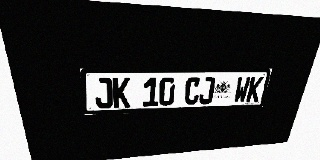0: (158, 77, 175, 106)
1: (143, 77, 159, 107)
C: (184, 77, 201, 105)
J: (94, 78, 113, 109), (198, 77, 216, 104)
K: (112, 78, 130, 108), (246, 76, 264, 102)
W: (233, 76, 251, 103)
